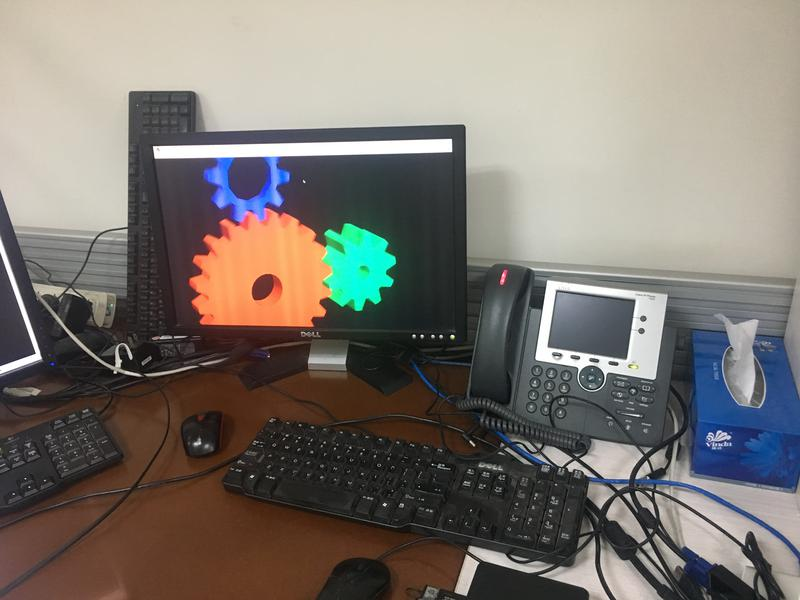glxgears_pass: (163, 152, 404, 335)
